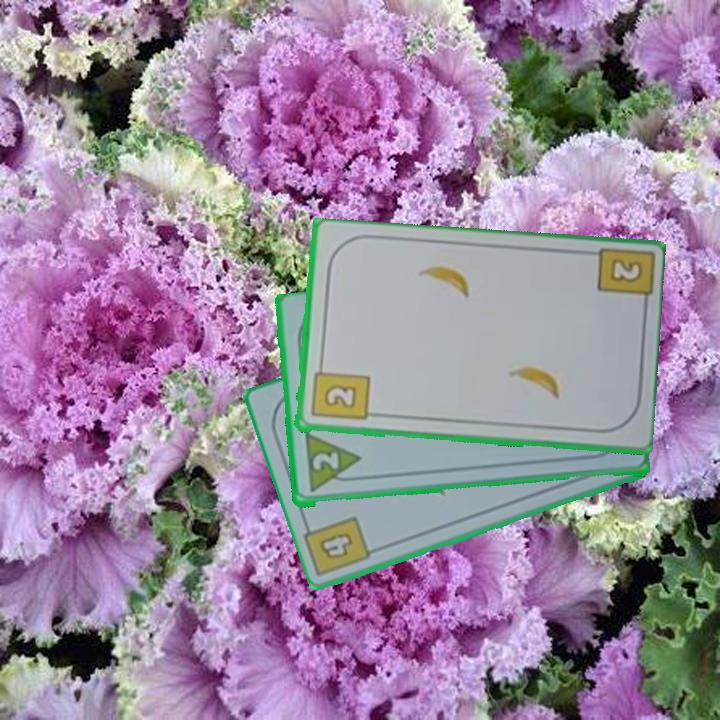2b: (307, 359, 371, 423), (606, 255, 646, 286)
2p: (301, 432, 364, 496)
4b: (315, 529, 356, 563)
